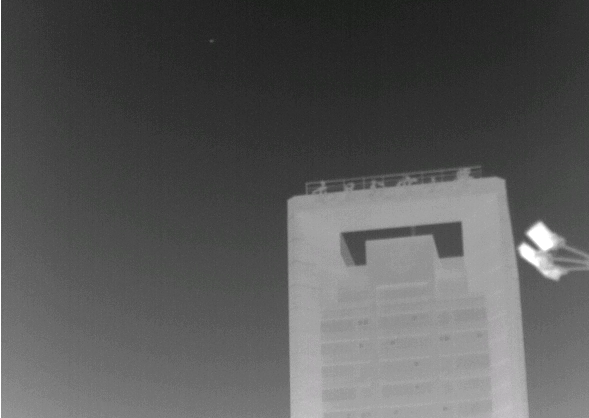dim target: (209, 39, 214, 43)
